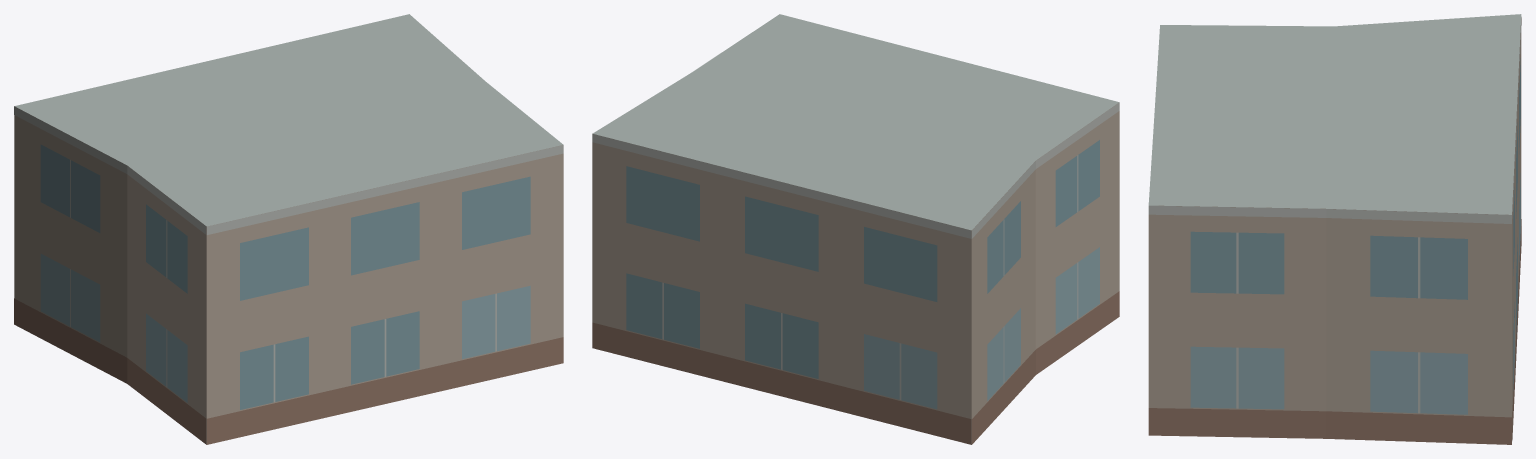
File: survey-upis-32801106.glb
The picture shows the model from 3 angles, left to right: view 1: azimuth 30°, elevation 25°; view 2: azimuth 150°, elevation 25°; view 3: azimuth 270°, elevation 25°; orthographic projection. The views are drawn at different scales.
Visible parts, largest first — view 1: survey-upis-32801106.tmp; view 2: survey-upis-32801106.tmp; view 3: survey-upis-32801106.tmp.
Part boxes in pixels (left/top/right/bottom): survey-upis-32801106.tmp: left=14, top=14, right=563, bottom=444; survey-upis-32801106.tmp: left=592, top=14, right=1119, bottom=444; survey-upis-32801106.tmp: left=1148, top=14, right=1521, bottom=444.
Bounding box in the file's own units: 11.44 × 6.1 × 8.97.
